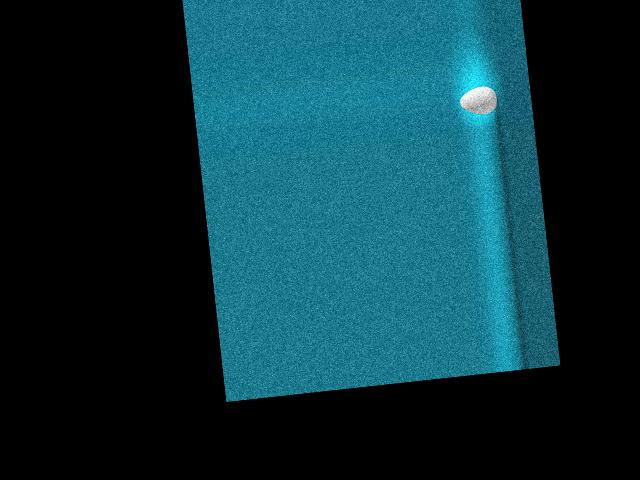egg: (458, 85, 499, 116)
